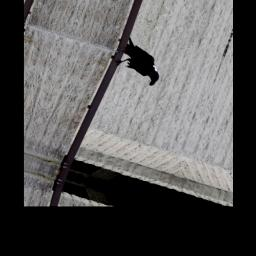Crow: (106, 33, 172, 89)
